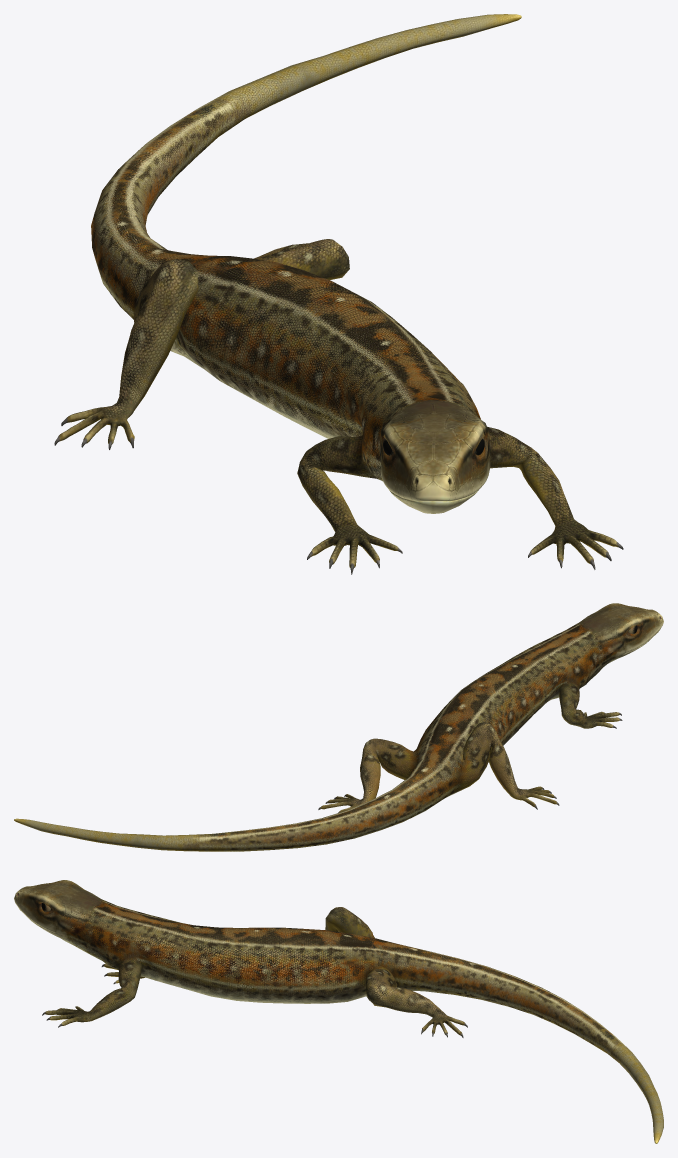
The model's file is Running506.obj.
3 renders of one model, top to bottom at view 1: azimuth 30°, elevation 25°; view 2: azimuth 150°, elevation 25°; view 3: azimuth 270°, elevation 25°, orthographic. The views are drawn at different scales.
Parts seen in each view (by area): view 1: Lizard; view 2: Lizard; view 3: Lizard.
Boxes of the visible parts, x1=… form: Lizard: x1=54, y1=14, x2=623, y2=574; Lizard: x1=14, y1=603, x2=663, y2=851; Lizard: x1=14, y1=880, x2=663, y2=1143.
Size of the model in its own units: 55.93 by 12.04 by 76.29.
